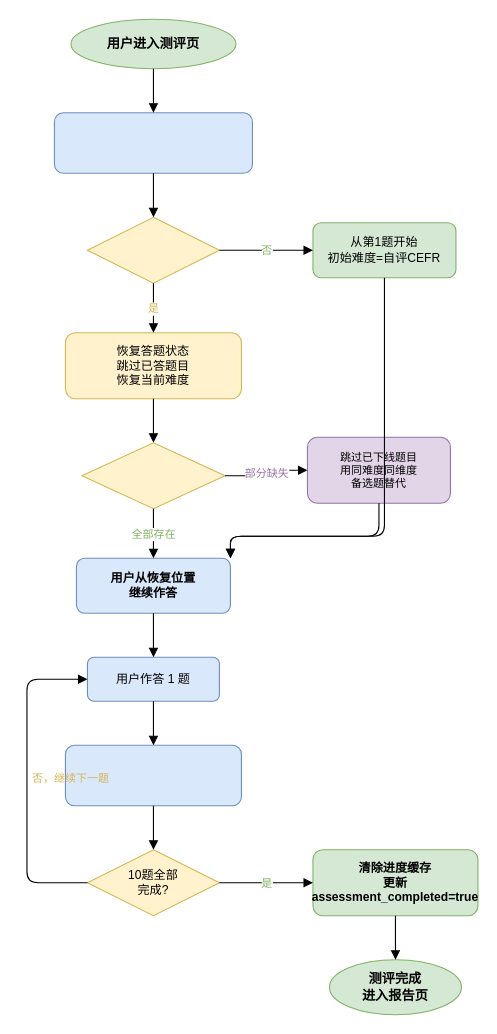
This 497x1034 diagram has some shape labels left out. Here are the shapes that lost their labels. From the top down, the box of each, then its label:
(53, 112, 252, 173): GET /api/assessment/progress 查询是否存在进度
(86, 216, 219, 283): 存在未完成 进度?
(81, 442, 225, 509): 已答题目在 题库中仍存在?
(64, 744, 241, 806): POST /api/assessment/progress 保存当前进度
